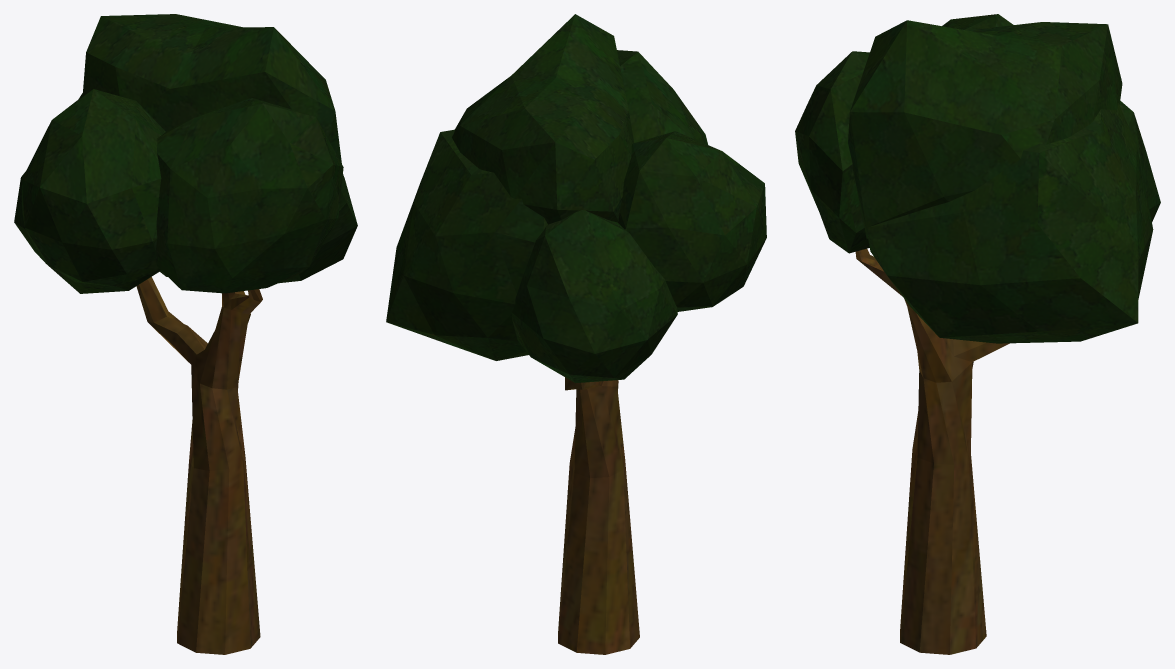
Rendered from Tree_04.fbx.
The picture shows the model from 3 angles, left to right: view 1: azimuth 30°, elevation 25°; view 2: azimuth 150°, elevation 25°; view 3: azimuth 270°, elevation 25°; orthographic projection. The views are drawn at different scales.
Visible parts, largest first — view 1: Tree_04; view 2: Tree_04; view 3: Tree_04.
Part boxes in pixels (box(x1,y1,x2,y2)): Tree_04: box(14, 14, 357, 654); Tree_04: box(386, 14, 766, 654); Tree_04: box(795, 14, 1160, 654).
Size of the model in its own units: 287 by 528 by 275.
